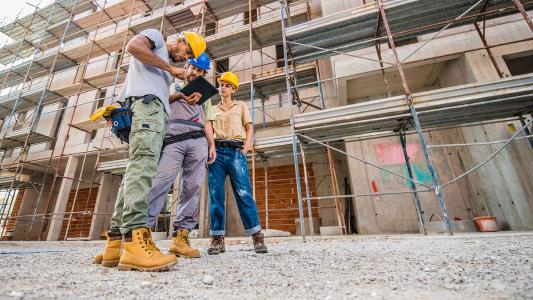boots: (117, 227, 176, 272), (169, 229, 199, 258), (100, 232, 121, 267), (251, 231, 268, 253), (206, 235, 224, 255)
hard-hat: (176, 31, 205, 58), (216, 70, 238, 91), (186, 50, 209, 70)
person: (93, 27, 208, 270), (145, 52, 216, 258), (205, 70, 268, 254)
